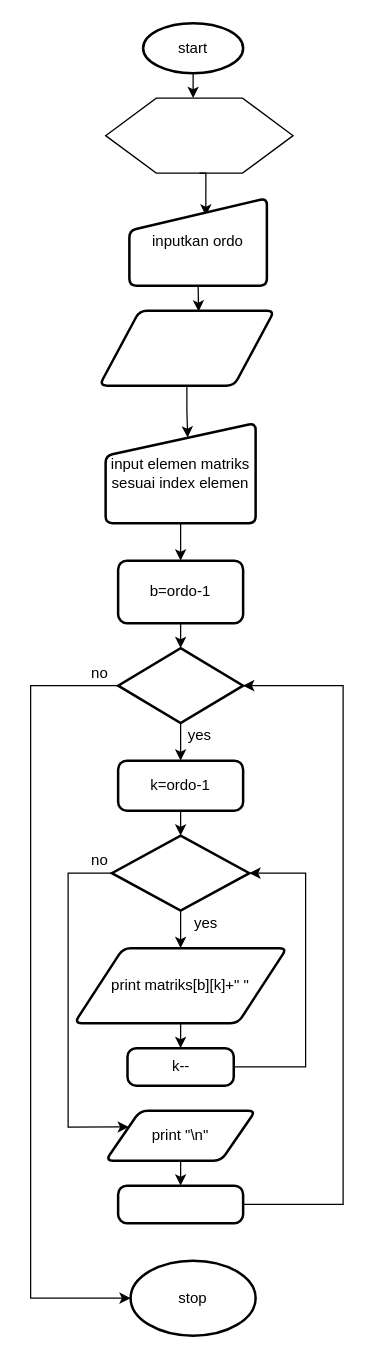
Some shapes in this 375 by 1358 pixel diagram are drawn without their labels. The centre of each missing label's shape, as x and y in pixels:
b--: point (180, 1204)
b>=0: point (180, 685)
int ordo, b, k: point (198, 135)
k>=0: point (180, 872)
matriks[ordo][ordo]: point (186, 347)
